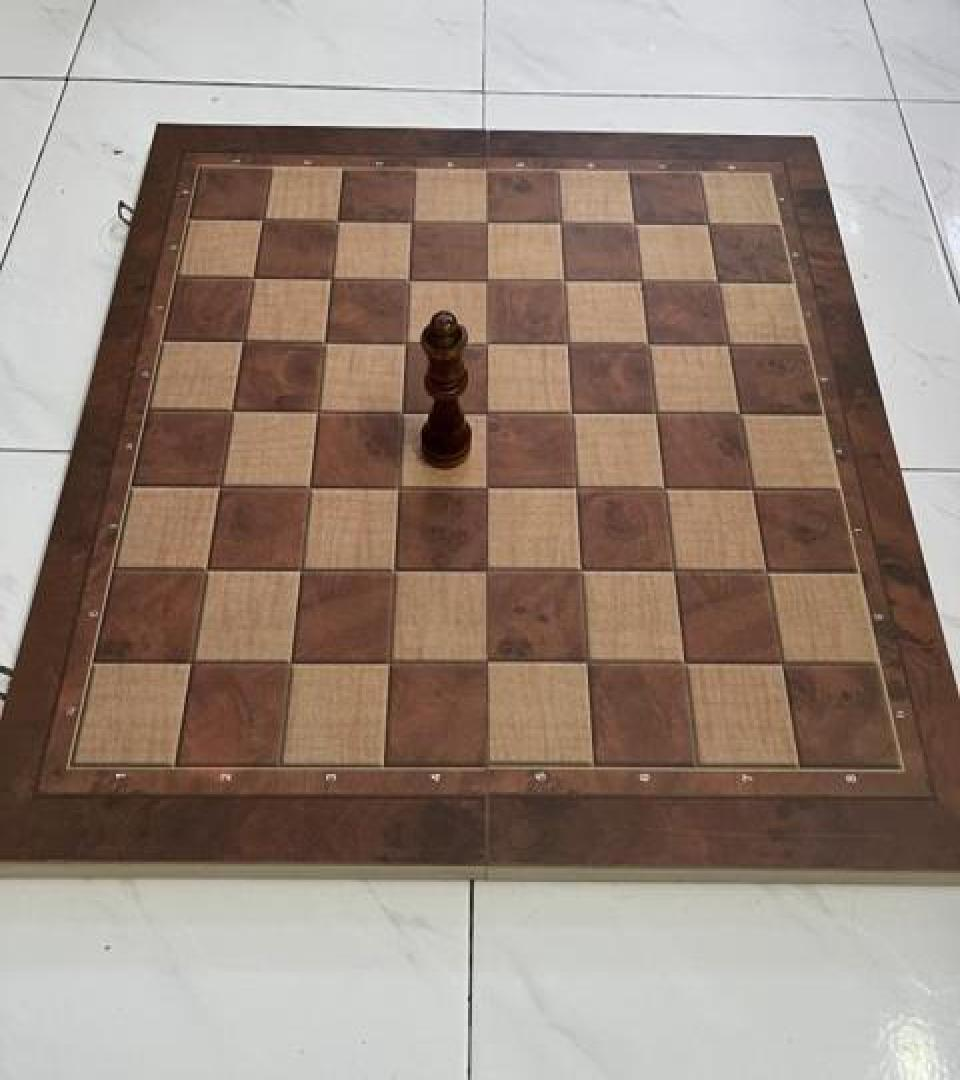xcorner: (615, 202, 649, 241), (541, 202, 575, 241), (467, 201, 501, 240), (392, 200, 426, 239), (317, 200, 351, 239), (689, 204, 723, 242), (242, 199, 276, 237), (698, 261, 732, 299), (621, 261, 655, 299), (544, 260, 578, 298), (467, 260, 501, 298), (389, 259, 423, 297), (311, 258, 345, 296), (233, 258, 267, 296), (709, 324, 743, 362), (628, 324, 662, 362), (548, 323, 582, 361), (467, 323, 501, 361), (386, 322, 420, 360), (305, 321, 339, 359), (223, 321, 257, 359), (720, 393, 754, 431), (636, 393, 670, 431), (552, 392, 586, 430), (467, 392, 501, 430), (383, 390, 417, 428), (298, 390, 332, 428), (212, 390, 246, 428), (733, 468, 767, 506), (645, 467, 679, 505), (556, 467, 590, 505), (468, 467, 502, 505), (379, 466, 413, 504), (290, 466, 324, 504), (200, 465, 234, 503), (746, 550, 780, 588), (654, 550, 688, 588), (561, 550, 595, 588), (468, 549, 502, 587), (375, 549, 409, 587), (281, 549, 315, 587), (187, 548, 221, 586), (761, 642, 795, 680), (664, 642, 698, 680), (566, 642, 600, 680), (468, 642, 502, 680), (370, 642, 404, 680), (272, 642, 306, 680), (173, 640, 207, 678)
